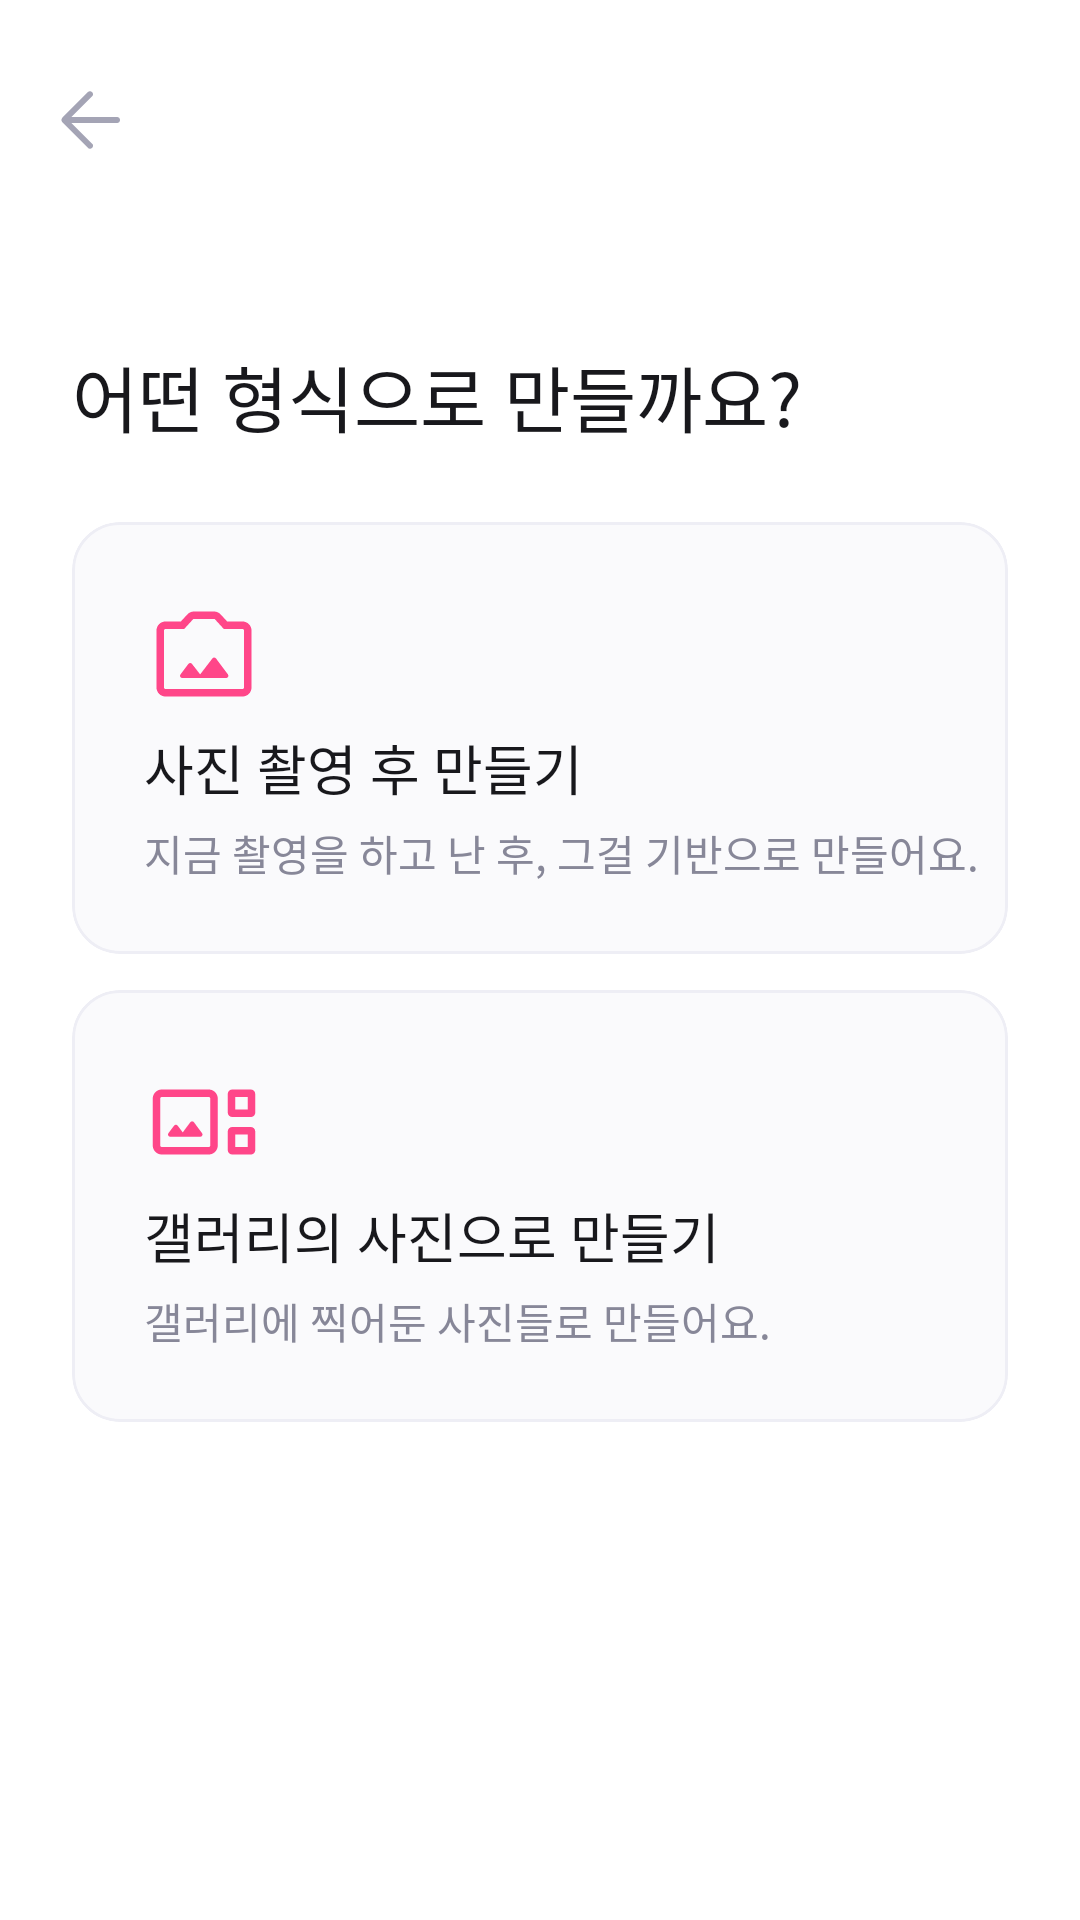

Where to tap for icons on this 1080x1920 app screen, as (x,y):
back: (90,120)
gallery: (204,1122)
photo camera: (204,654)
